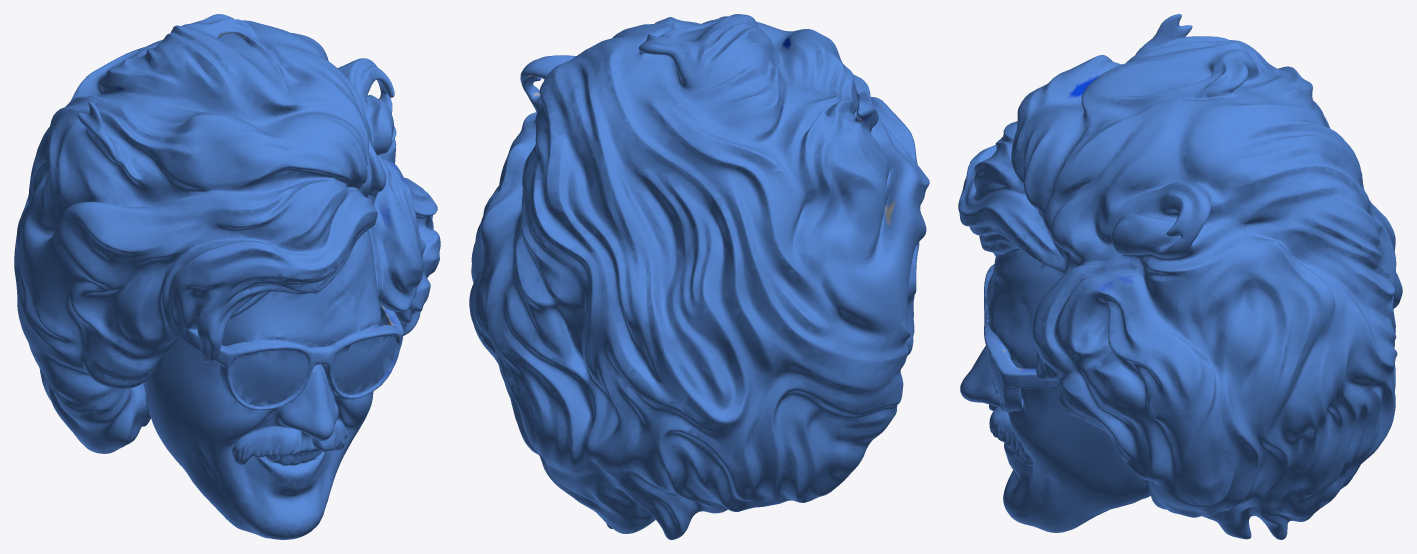
Rendered from Beto_s3.glb.
3 views of the same model, side by side, from view 1: azimuth 30°, elevation 25°; view 2: azimuth 150°, elevation 25°; view 3: azimuth 270°, elevation 25° (orthographic). The views are drawn at different scales.
Bounding box in the file's own units: 1.51 × 1.68 × 1.42.
